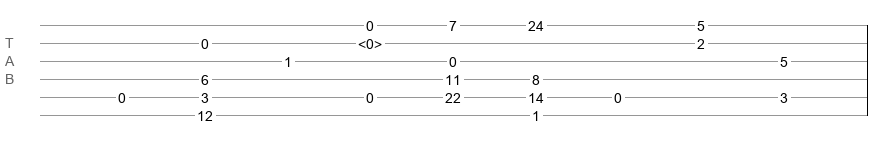0: (118, 90, 126, 100), (201, 36, 209, 46), (366, 90, 374, 100), (366, 18, 374, 28), (449, 54, 457, 64), (614, 90, 622, 100)
1: (284, 54, 292, 64), (532, 108, 540, 118)
11: (445, 72, 461, 82)
12: (197, 108, 213, 118)
14: (528, 90, 544, 100)
2: (697, 36, 705, 46)
22: (445, 90, 461, 100)
24: (528, 18, 544, 28)
3: (201, 90, 209, 100), (780, 90, 788, 100)
5: (697, 18, 705, 28), (780, 54, 788, 64)
6: (201, 72, 209, 82)
7: (449, 18, 457, 28)
8: (532, 72, 540, 82)
harmonic: (358, 36, 382, 46)
